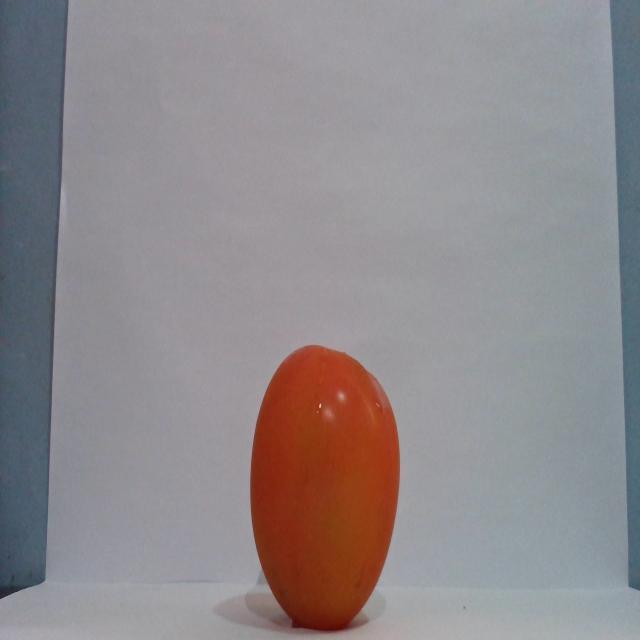Red: (248, 343, 401, 630)
